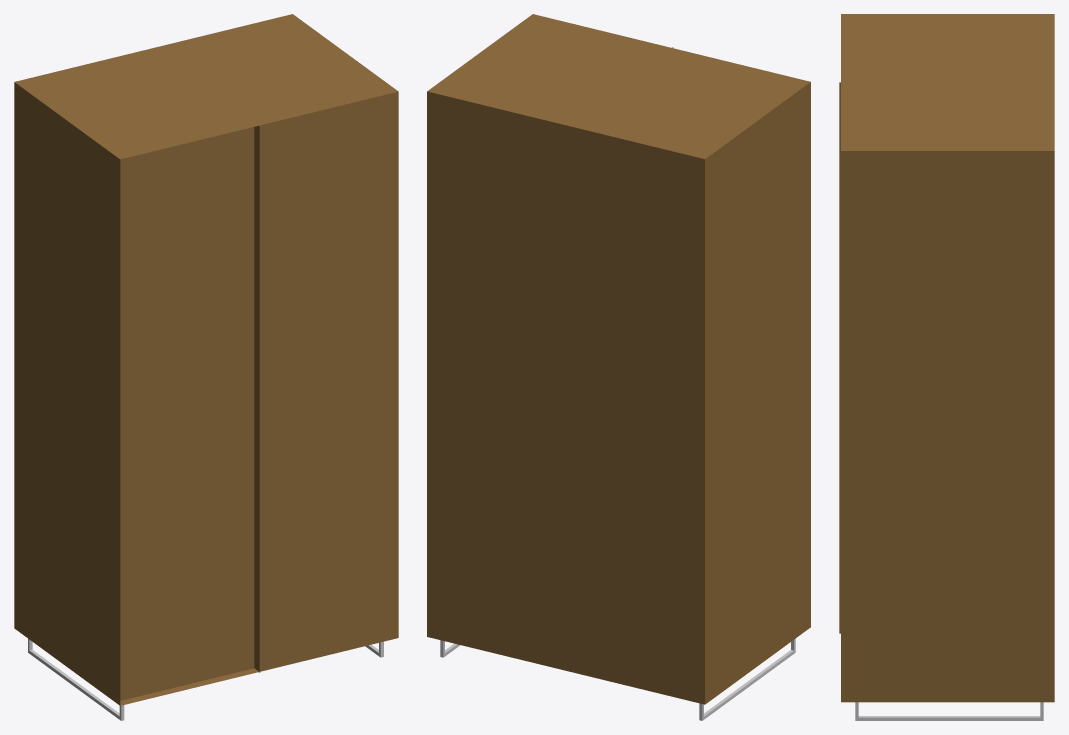
Rendered from GroßerSchrank.fbx.
3 renders of one model, left to right at view 1: azimuth 30°, elevation 25°; view 2: azimuth 150°, elevation 25°; view 3: azimuth 270°, elevation 25°, orthographic.
Parts seen in each view (by area): view 1: Cube.008; view 2: Cube.008; view 3: Cube.008.
Boxes of the visible parts, x1=… form: Cube.008: x1=14, y1=14, x2=398, y2=720; Cube.008: x1=427, y1=14, x2=810, y2=720; Cube.008: x1=839, y1=14, x2=1054, y2=720.
Size of the model in its own units: 176 by 343 by 117.
